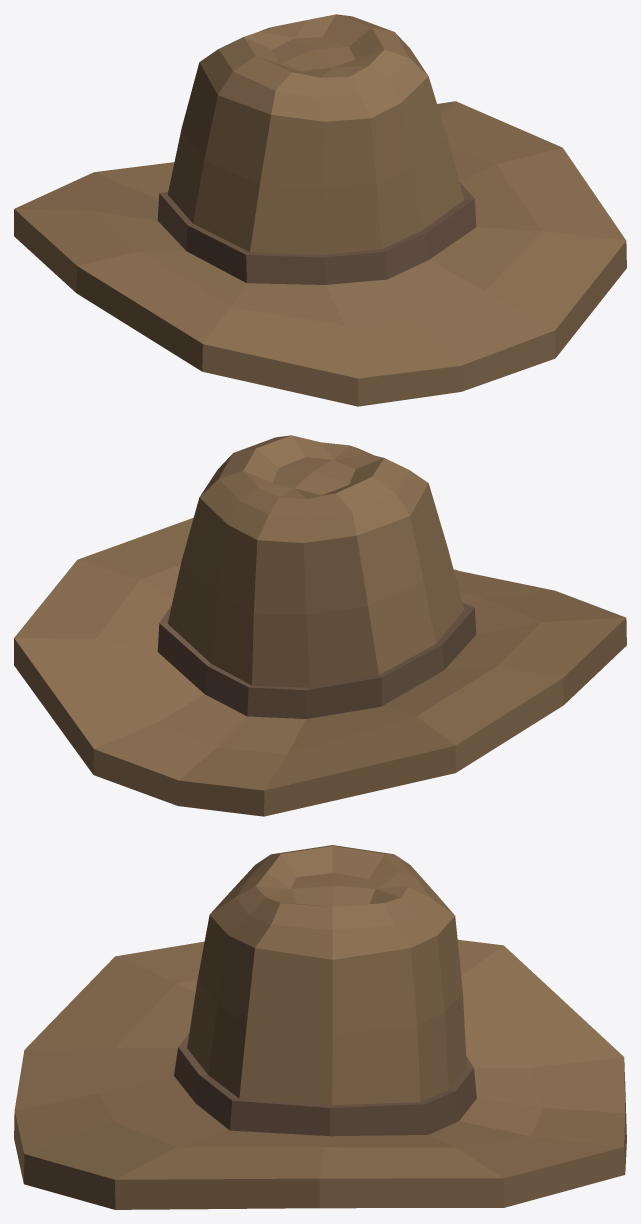
File: low_poly_hat_1.glb
3 views of the same model, one above another, from view 1: azimuth 30°, elevation 25°; view 2: azimuth 150°, elevation 25°; view 3: azimuth 270°, elevation 25° (orthographic). The views are drawn at different scales.
Visible parts, largest first — view 1: Cube; view 2: Cube; view 3: Cube.
Boxes of the visible parts, box(x1,y1,x2,y2) form: Cube: box(14, 14, 626, 406); Cube: box(14, 435, 626, 816); Cube: box(14, 845, 626, 1209).
Size of the model in its own units: 3.95 by 1.89 by 3.98.
